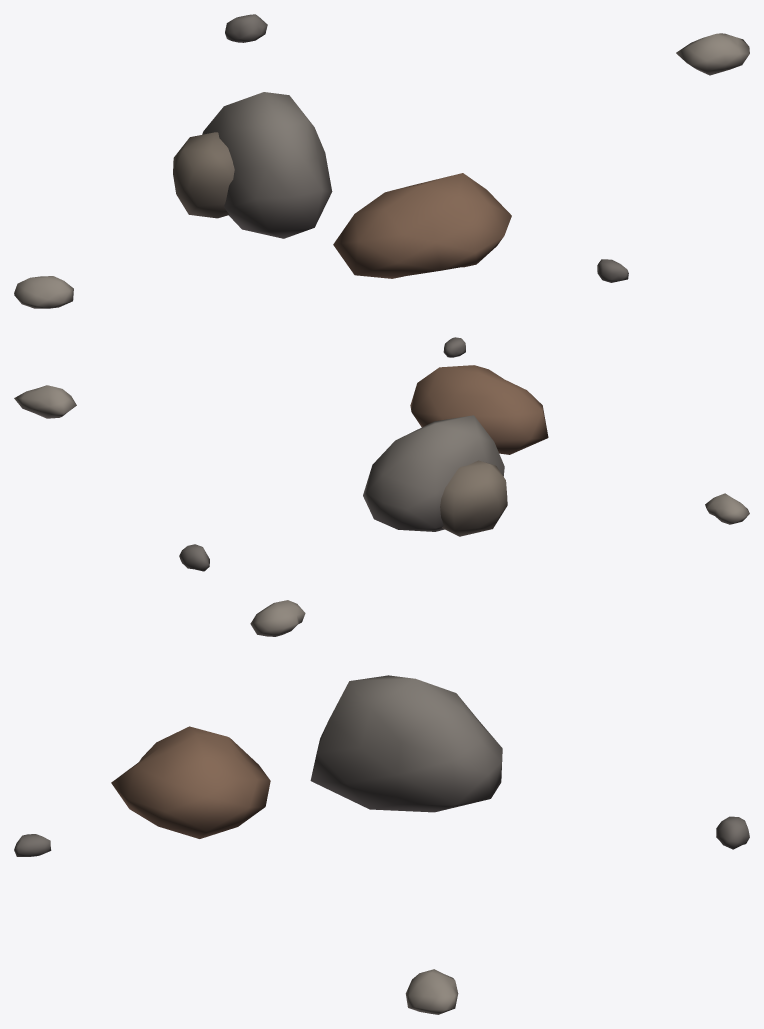
Rendered from yd_stones__214.glb.
The picture shows the model from 3 angles, top to bottom: view 1: azimuth 30°, elevation 25°; view 2: azimuth 150°, elevation 25°; view 3: azimuth 270°, elevation 25°; orthographic projection. The views are drawn at different scales.
Visible parts, largest first — view 1: prop_yd_stones; view 2: prop_yd_stones; view 3: prop_yd_stones.
Part boxes in pixels (<box>): prop_yd_stones: <box>14,14,749,308</box>; prop_yd_stones: <box>14,337,749,571</box>; prop_yd_stones: <box>14,600,749,1014</box>.
Size of the model in its own units: 1.39 by 0.2059 by 1.06.
